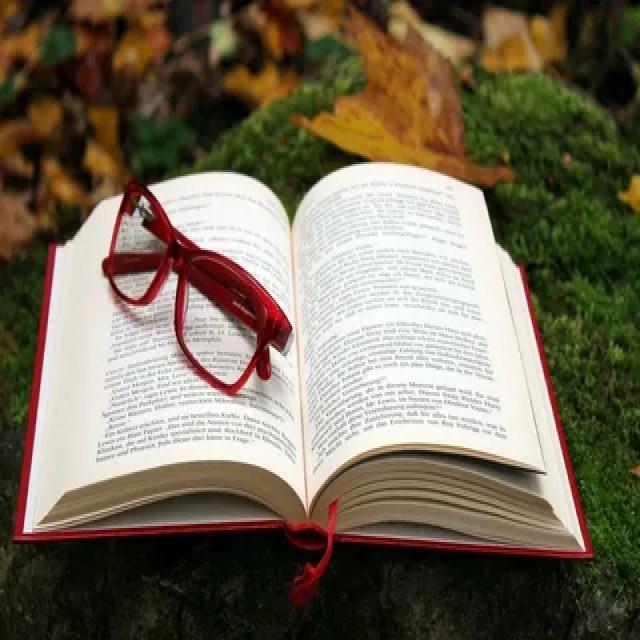book: (17, 147, 603, 593)
